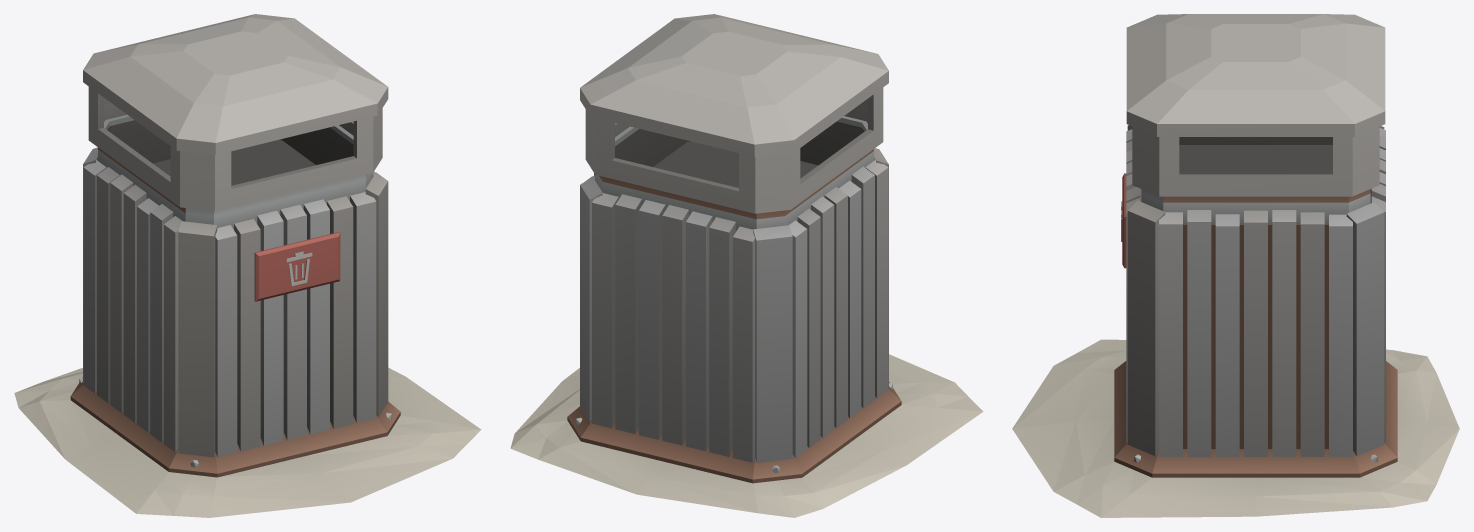
File: bin.glb
The picture shows the model from 3 angles, left to right: view 1: azimuth 30°, elevation 25°; view 2: azimuth 150°, elevation 25°; view 3: azimuth 270°, elevation 25°; orthographic projection. The views are drawn at different scales.
Parts seen in each view (by area): view 1: bin; view 2: bin; view 3: bin.
Boxes of the visible parts, x1=… form: bin: x1=14, y1=14, x2=481, y2=517; bin: x1=510, y1=14, x2=983, y2=517; bin: x1=1012, y1=14, x2=1459, y2=517.
Size of the model in its own units: 0.8937 by 0.902 by 0.9483.
